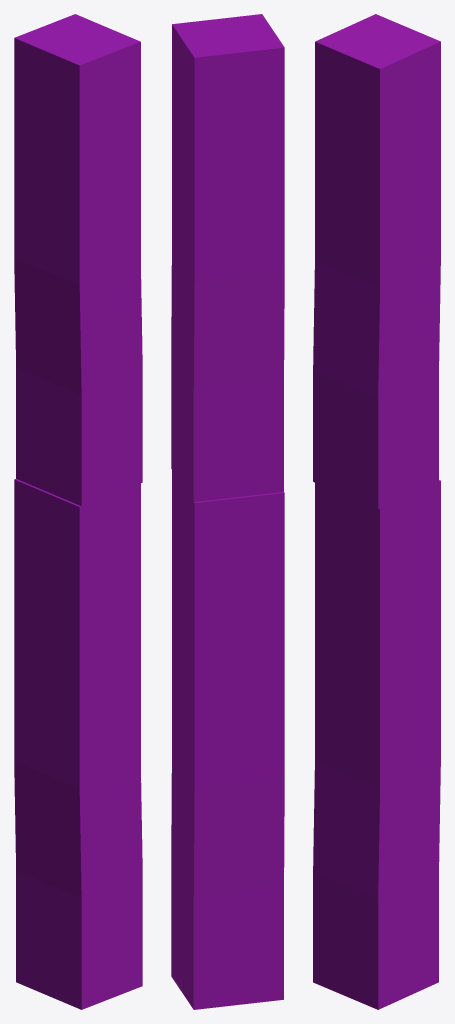
The model's file is columna_esquina.fbx.
3 renders of one model, left to right at view 1: azimuth 90°, elevation 25°; view 2: azimuth 150°, elevation 25°; view 3: azimuth 270°, elevation 25°, orthographic.
Visible parts, largest first — view 1: Box1363, Box1364; view 2: Box1363, Box1364; view 3: Box1363, Box1364.
Part boxes in pixels (left/top/right/bottom): Box1363: left=14, top=479, right=142, bottom=1009; Box1364: left=14, top=14, right=142, bottom=506; Box1363: left=171, top=470, right=284, bottom=1009; Box1364: left=171, top=14, right=284, bottom=501; Box1363: left=313, top=480, right=440, bottom=1009; Box1364: left=313, top=14, right=440, bottom=508.
Bounding box in the file's own units: 5.51 × 44.81 × 5.51.
